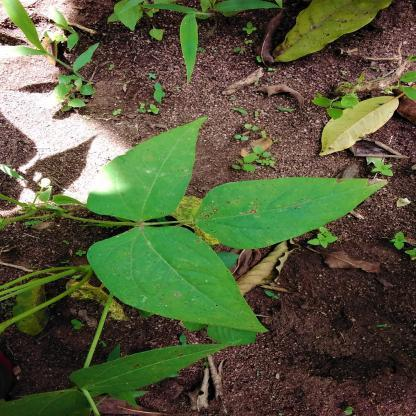Beans_Angular_LeafSpot: (89, 226, 271, 338), (191, 175, 382, 246), (83, 119, 203, 216)
